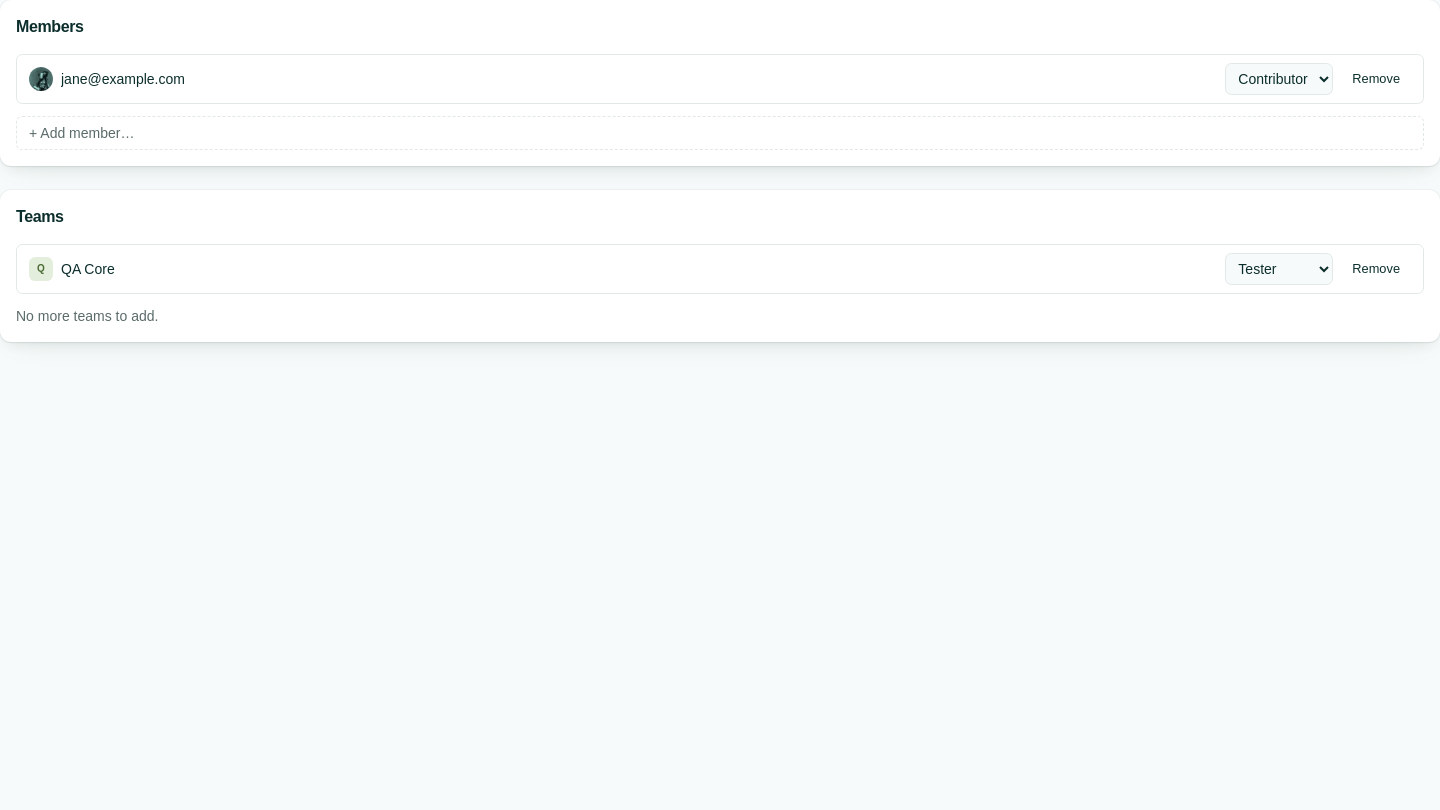
Test: ProjectMembersPage › remove a member › does not remove immediately — opens a confirmation dialog naming the member first
Expected: the text "jane@example.com" is shown, top-left (61, 69), bottom-right (185, 89)
Click the button with aria-label "remove jane@example.com" at point(1376, 79), box top-left (1341, 65), bottom-right (1411, 93)
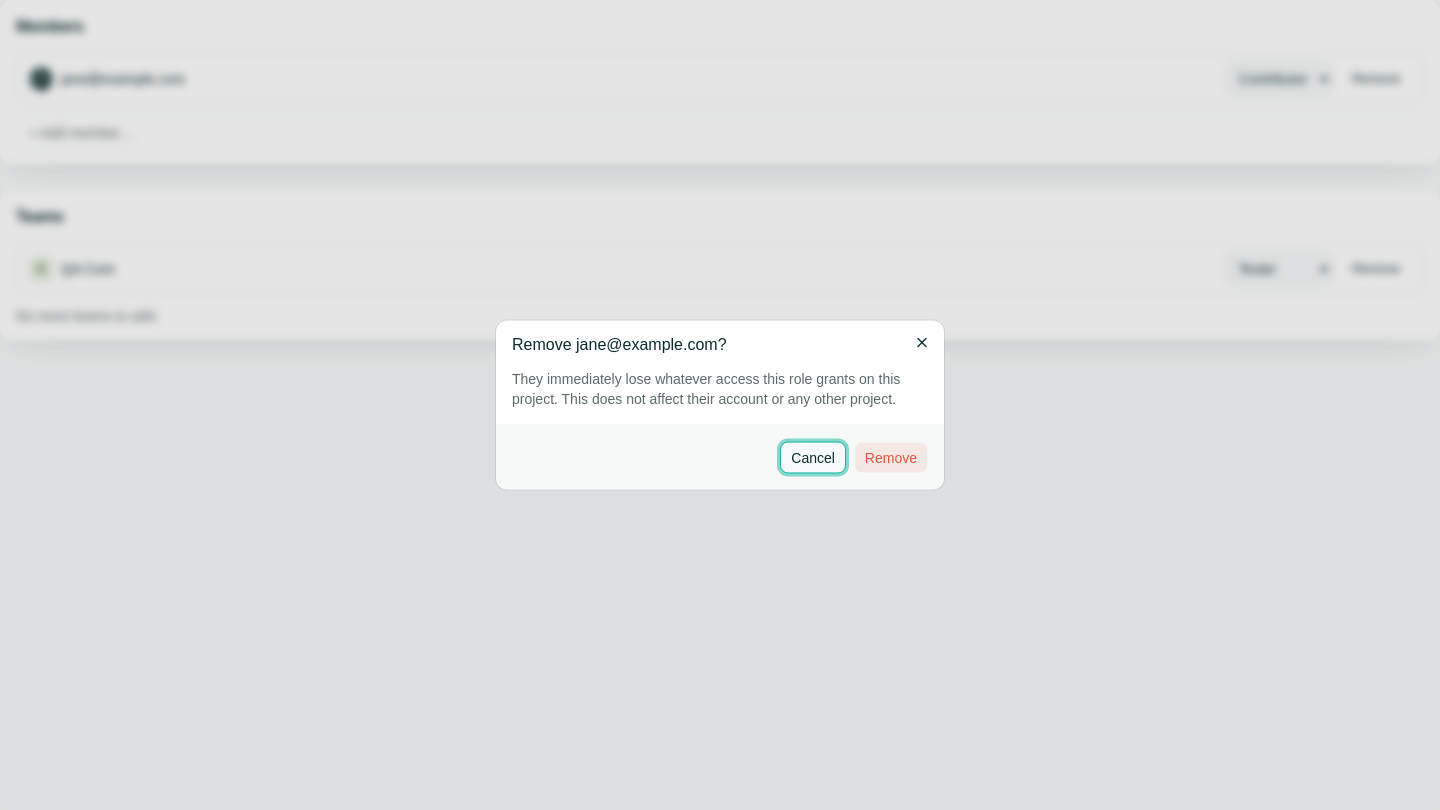
Result: the dialog shows "jane@example.com" at top-left (512, 336), bottom-right (727, 352)
